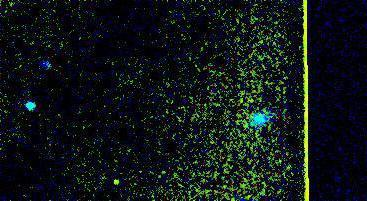star: (98, 164, 128, 194)
